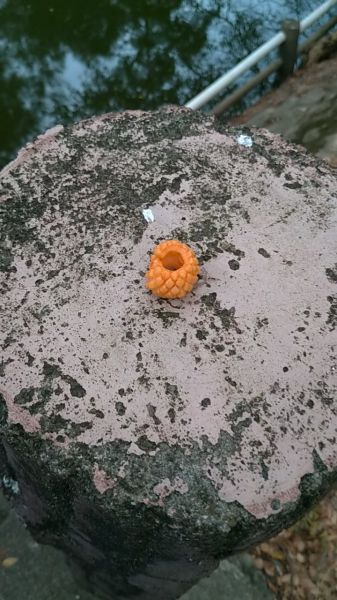eggs: (142, 236, 202, 303)
